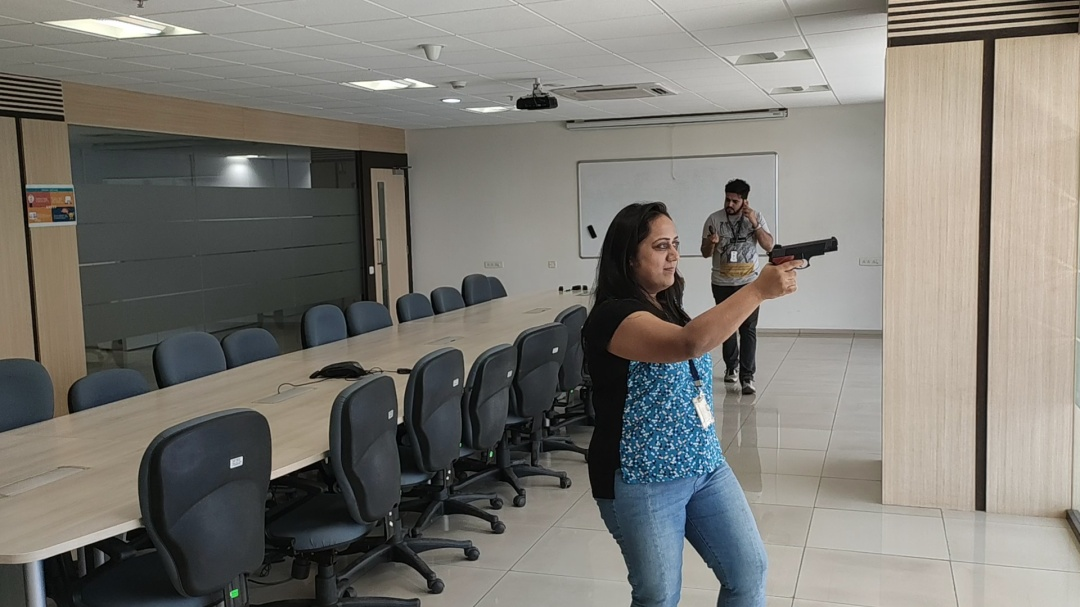gun: (766, 236, 839, 271)
